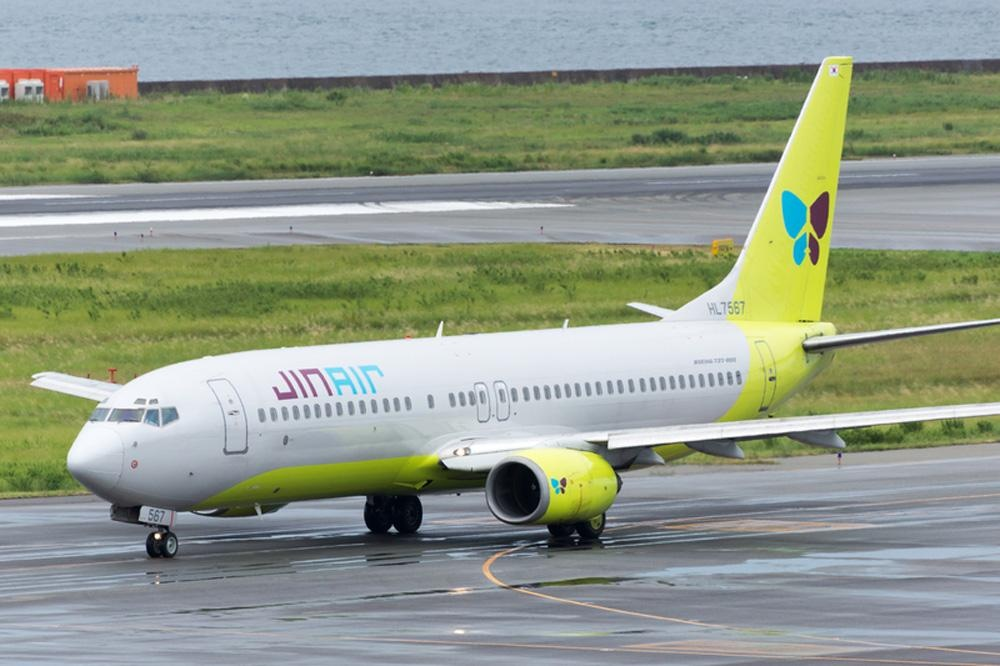airplane: (19, 55, 969, 582)
